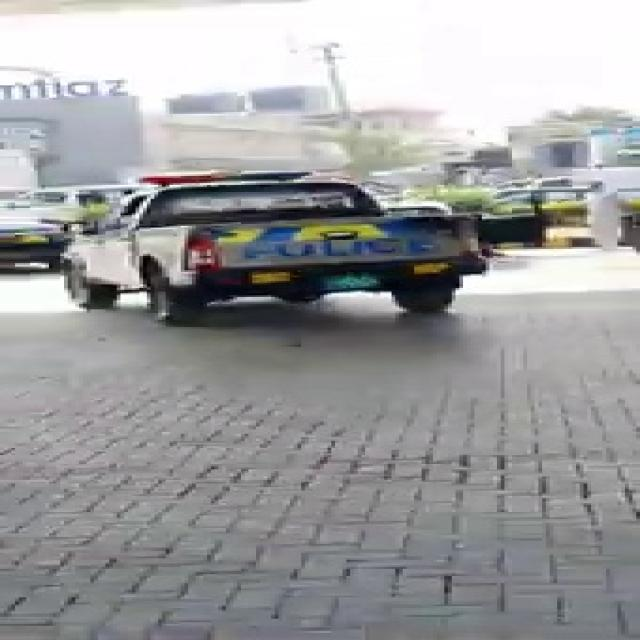police: (14, 133, 558, 331)
